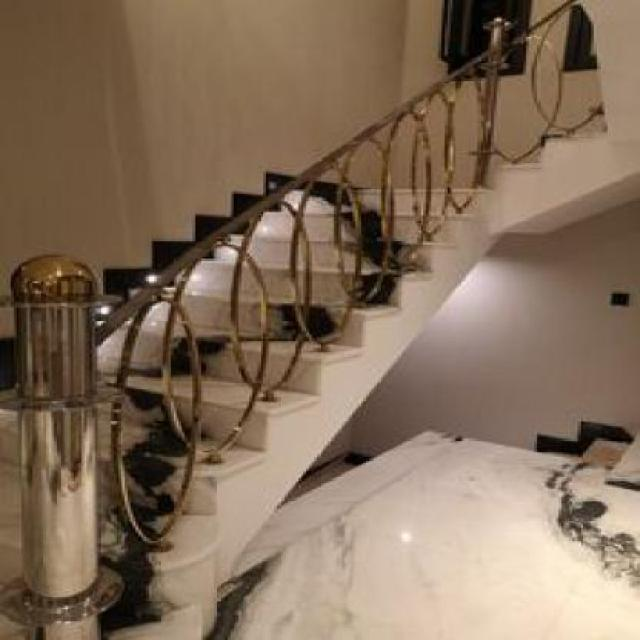stair: (6, 111, 506, 600)
